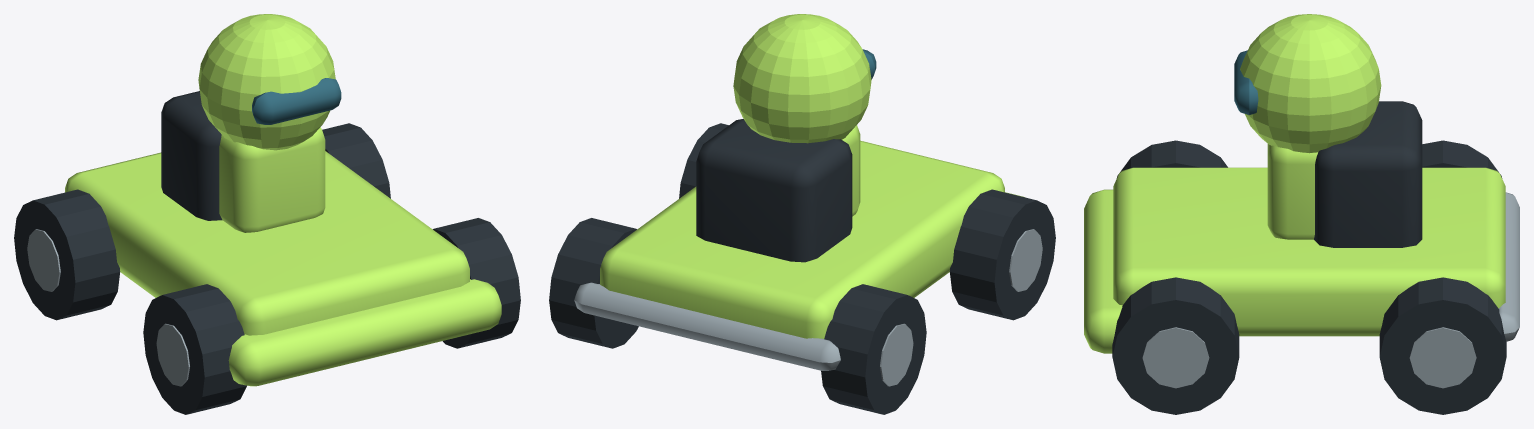
Rendered from vale-kart.glb.
3 renders of one model, left to right at view 1: azimuth 30°, elevation 25°; view 2: azimuth 150°, elevation 25°; view 3: azimuth 270°, elevation 25°, orthographic. The views are drawn at different scales.
Visible parts, largest first — view 1: Chassis, Nose, Sphere, Cylinder.002, Driver suit, Cylinder, Seat, Cylinder.004, Visor, Cylinder.006, Cylinder.001, Cylinder.003; view 2: Chassis, Seat, Sphere, Cylinder, Cylinder.002, Rear bumper, Cylinder.006, Cylinder.001, Cylinder.003, Cylinder.004, Driver suit; view 3: Chassis, Sphere, Seat, Cylinder.006, Cylinder.004, Nose, Driver suit, Cylinder.005, Cylinder.007, Rear bumper, Cylinder, Cylinder.002 (+1 smaller).
Boxes of the visible parts, <box> form: Chassis: <box>65,151,469,335</box>; Nose: <box>228,279,501,386</box>; Sphere: <box>198,14,335,150</box>; Cylinder.002: <box>14,189,120,320</box>; Driver suit: <box>219,127,325,232</box>; Cylinder: <box>143,284,246,414</box>; Seat: <box>161,91,222,220</box>; Cylinder.004: <box>433,218,520,348</box>; Visor: <box>252,78,341,124</box>; Cylinder.006: <box>322,123,390,198</box>; Cylinder.001: <box>156,323,189,386</box>; Cylinder.003: <box>27,229,60,291</box>; Chassis: <box>600,140,1004,338</box>; Seat: <box>696,119,852,262</box>; Sphere: <box>733,14,871,143</box>; Cylinder: <box>949,189,1055,320</box>; Cylinder.002: <box>821,284,926,414</box>; Rear bumper: <box>574,282,840,370</box>; Cylinder.006: <box>549,218,638,348</box>; Cylinder.001: <box>1009,229,1042,291</box>; Cylinder.003: <box>880,323,913,386</box>; Cylinder.004: <box>679,123,728,198</box>; Driver suit: <box>842,125,860,216</box>; Chassis: <box>1113,167,1505,336</box>; Sphere: <box>1240,14,1381,153</box>; Seat: <box>1314,101,1422,247</box>; Cylinder.006: <box>1379,277,1506,414</box>; Cylinder.004: <box>1112,277,1239,414</box>; Nose: <box>1084,189,1122,353</box>; Driver suit: <box>1267,144,1317,239</box>; Cylinder.005: <box>1142,327,1209,388</box>; Cylinder.007: <box>1409,327,1476,388</box>; Rear bumper: <box>1498,192,1519,341</box>; Cylinder: <box>1116,140,1227,178</box>; Cylinder.002: <box>1422,140,1502,178</box>.
Bounding box in the file's own units: 2.28 × 2.08 × 2.61.
